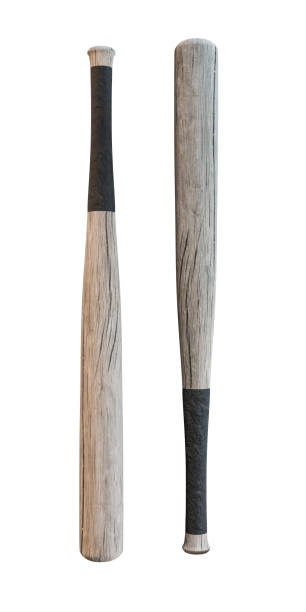bita: (79, 48, 124, 564), (174, 38, 219, 554)
